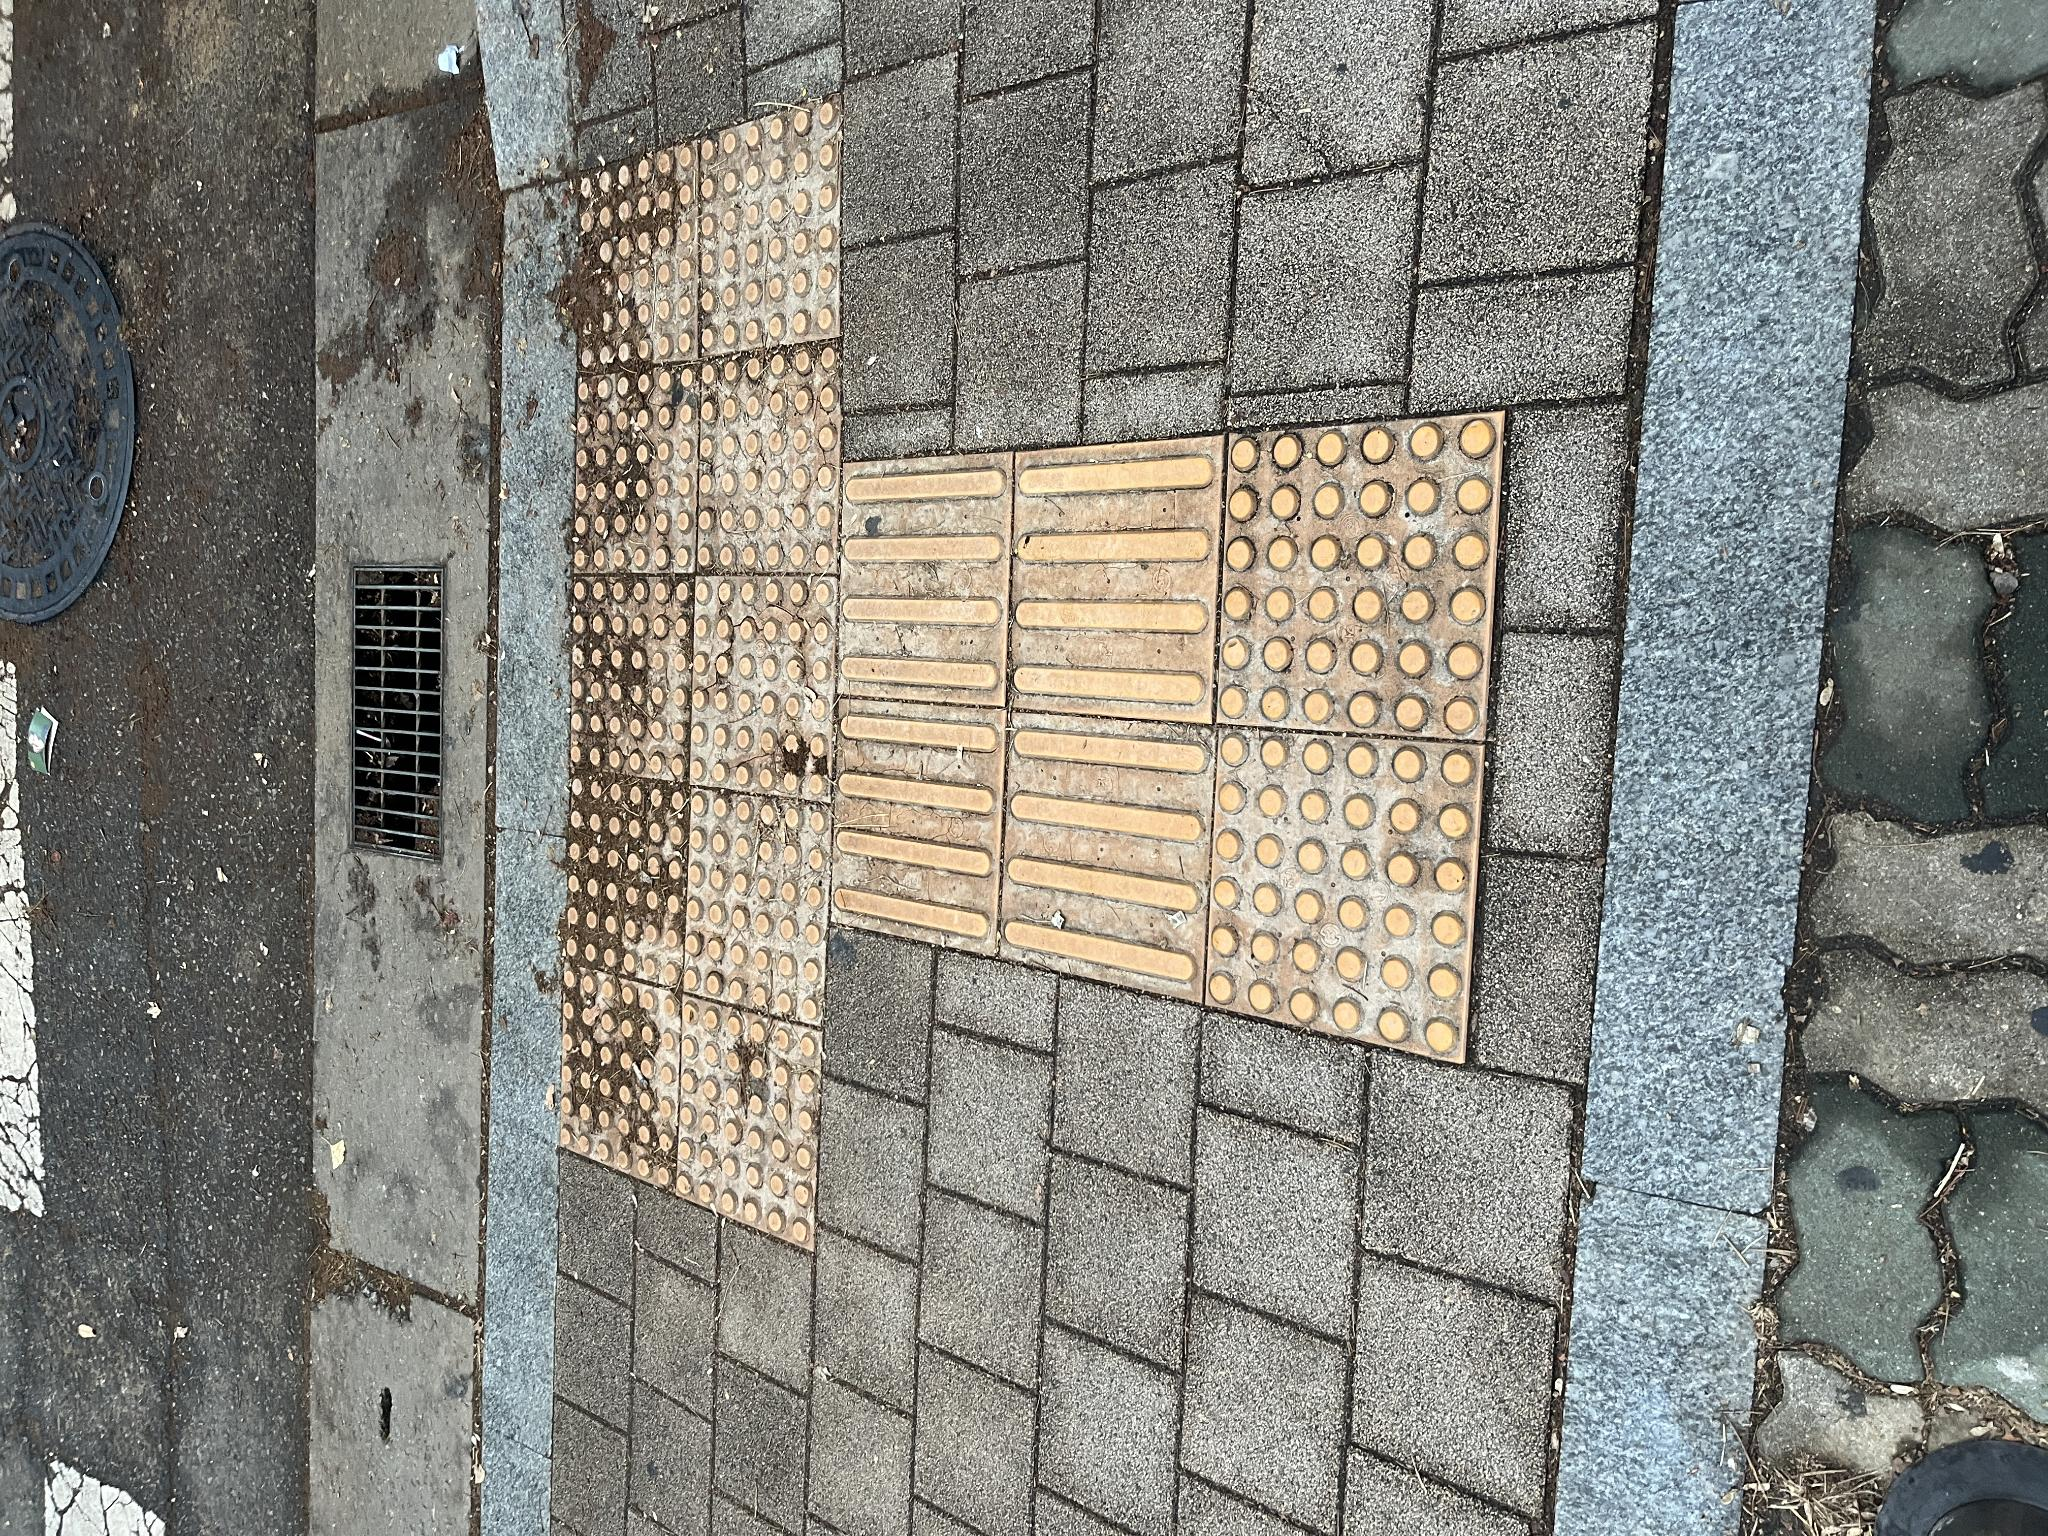Stop block normal: (797, 1218, 1122, 1502), (477, 1207, 806, 1478), (511, 684, 747, 829), (964, 699, 1193, 841), (739, 691, 958, 834)
Straight block normal: (535, 1000, 821, 1213), (814, 1012, 1098, 1220), (584, 833, 835, 1002), (830, 841, 1082, 1008)
